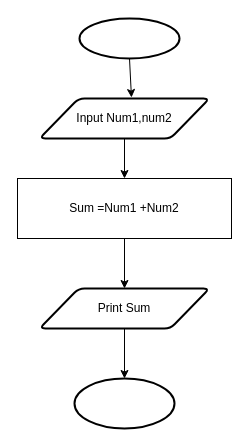
This 249x446 diagram has some shape labels left out. Each missing label, with the centre of its shape:
End: [124,403]
Start: [129,38]
